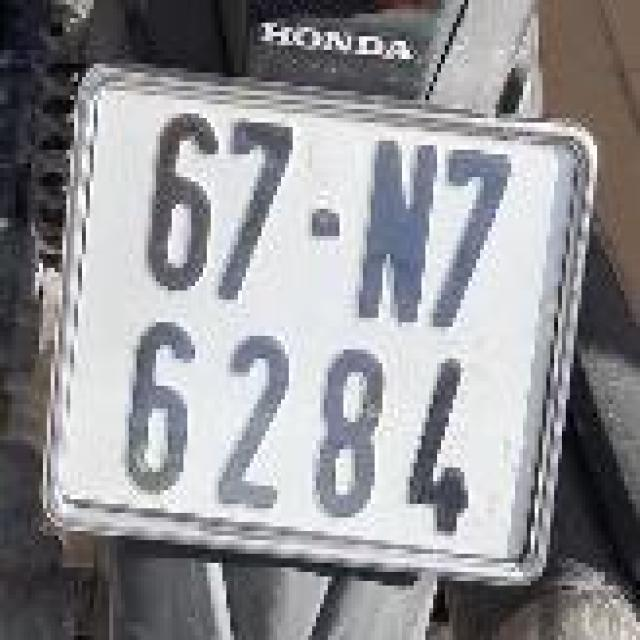2: (215, 327, 292, 517)
4: (404, 342, 482, 552)
6: (129, 100, 226, 299), (117, 295, 203, 504)
7: (210, 107, 292, 320), (435, 141, 517, 345)
8: (311, 334, 388, 528)
N: (355, 122, 433, 332)
